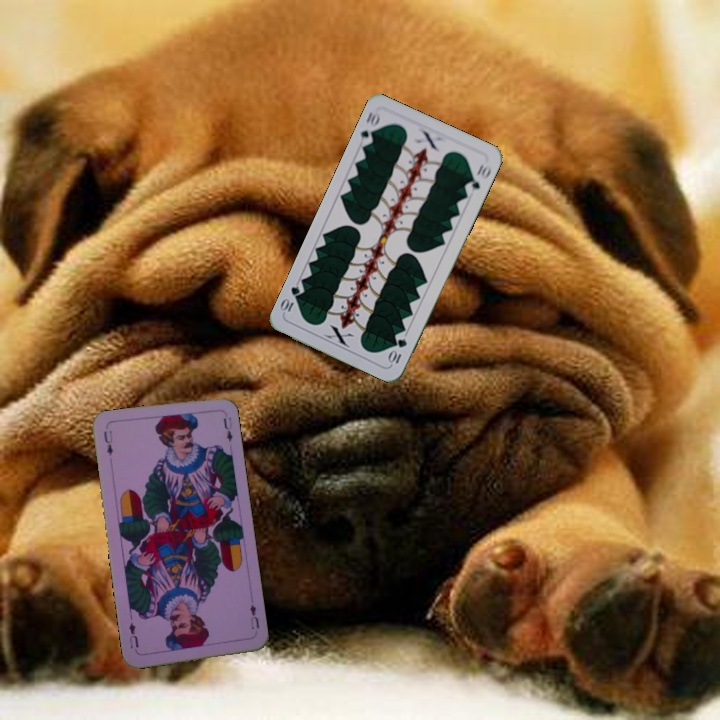EU: (246, 600, 262, 632), (100, 427, 116, 458)
G10: (356, 107, 383, 148), (385, 335, 410, 367)
